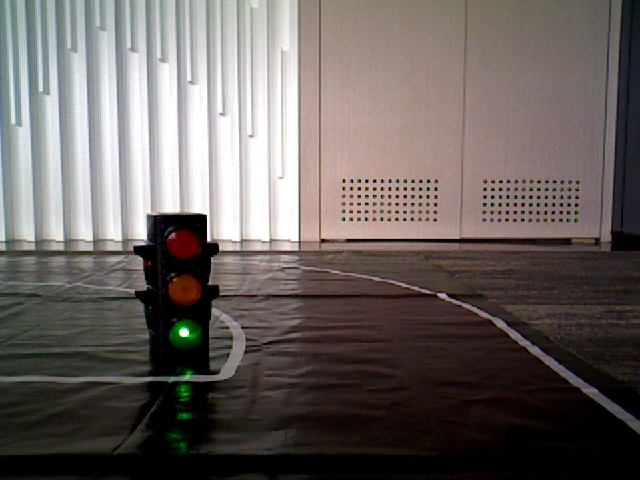green: (150, 225, 210, 355)
